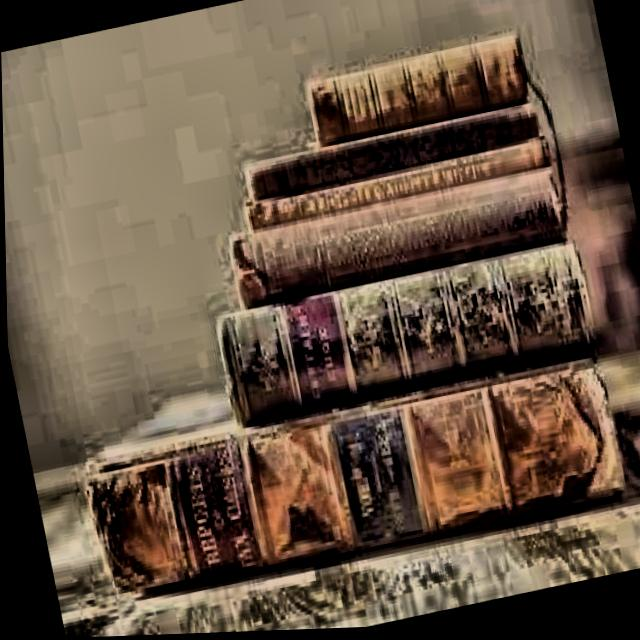Paper: (64, 304, 625, 609), (207, 235, 598, 433), (220, 163, 566, 314), (237, 99, 540, 204), (241, 135, 551, 236), (302, 31, 530, 147)
